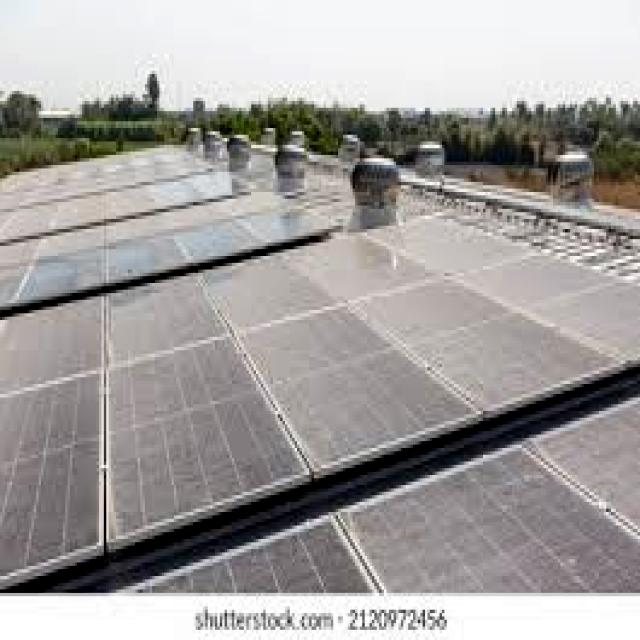dust: (109, 365, 270, 488), (432, 273, 574, 377), (286, 336, 407, 434)
